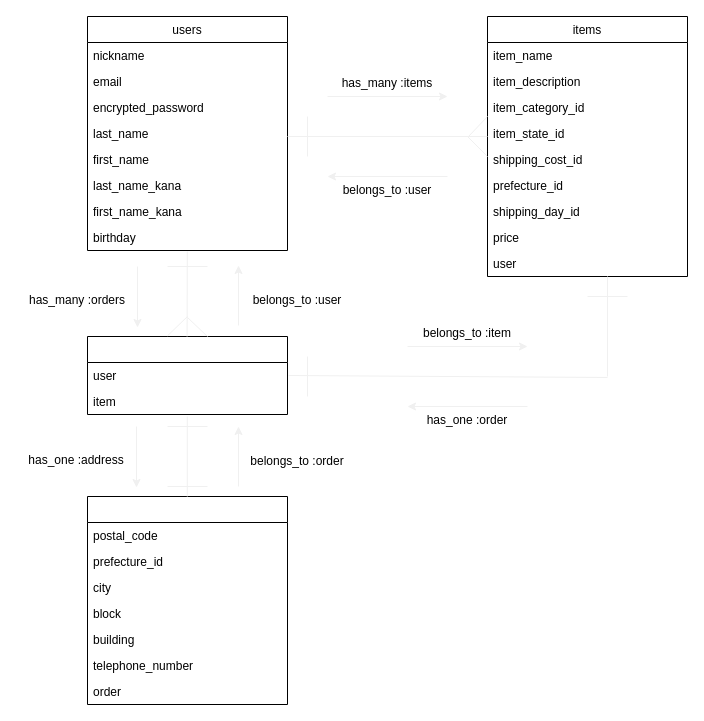
The diagram is 704 pixels wide and 721 high, and some of its shapes have lost their labels. Here are the shapes that lost their labels. From the top down, the box of each, then its label:
(86, 336, 288, 414): orders
(86, 496, 288, 704): addresses
